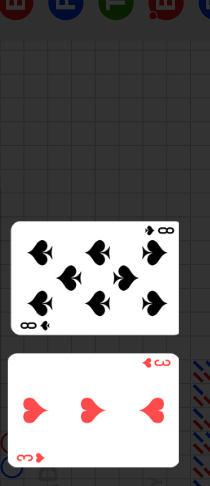10S: (142, 225, 176, 238)
3H: (16, 451, 48, 464)
